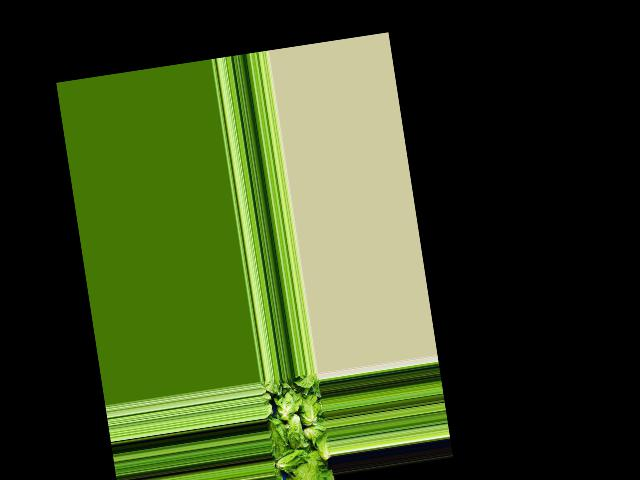lettuce: (313, 429, 331, 465)
